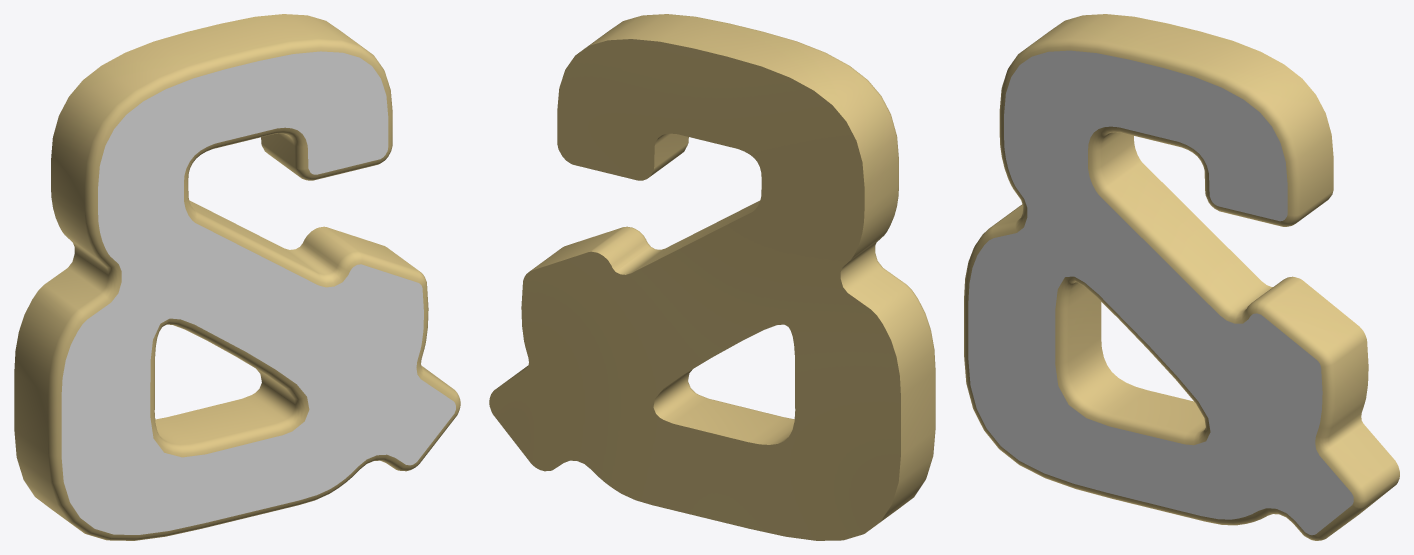
The model's file is LettersLightUp02_S3.FBX.
The picture shows the model from 3 angles, left to right: view 1: azimuth 30°, elevation 25°; view 2: azimuth 150°, elevation 25°; view 3: azimuth 330°, elevation 25°; orthographic projection. The views are drawn at different scales.
Parts seen in each view (by area): view 1: LettersLightUp02_S3; view 2: LettersLightUp02_S3; view 3: LettersLightUp02_S3.
Part boxes in pixels (x1,y1,x2,y2): LettersLightUp02_S3: (14, 14, 460, 540); LettersLightUp02_S3: (489, 14, 935, 540); LettersLightUp02_S3: (964, 14, 1399, 540).
Size of what is drawn, in the model's own units: 0.5611 by 0.6081 by 0.0912.
